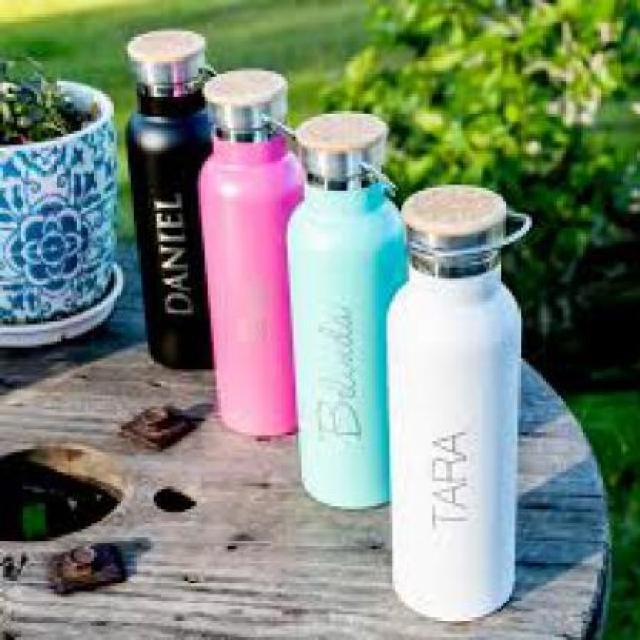Drinking: (390, 159, 528, 623), (288, 99, 406, 515), (111, 14, 234, 383)
